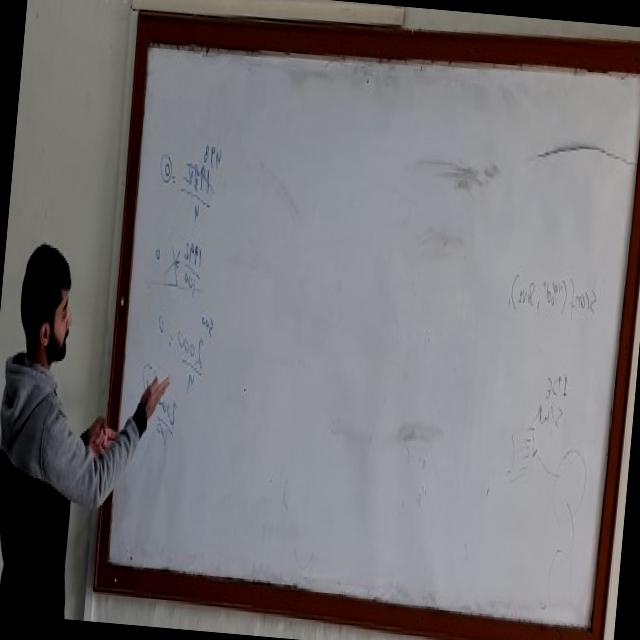Instructor: (0, 212, 111, 616)
White-board: (100, 26, 640, 640)
